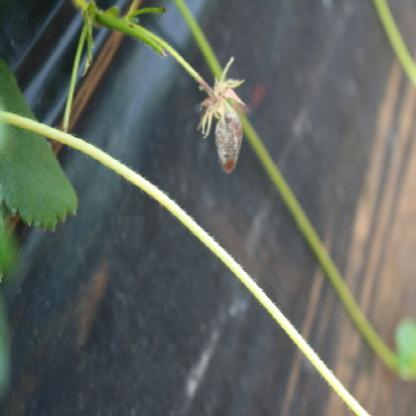Strawberry_Gray_Mold: (196, 58, 247, 174)
